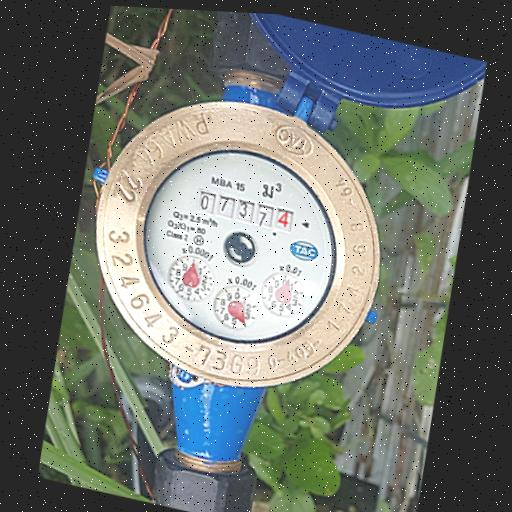0: (198, 189, 215, 213)
3: (236, 198, 255, 222)
4: (275, 209, 292, 232)
7: (217, 195, 234, 216), (257, 205, 273, 226)
border_water_meter_number: (191, 184, 299, 238)
